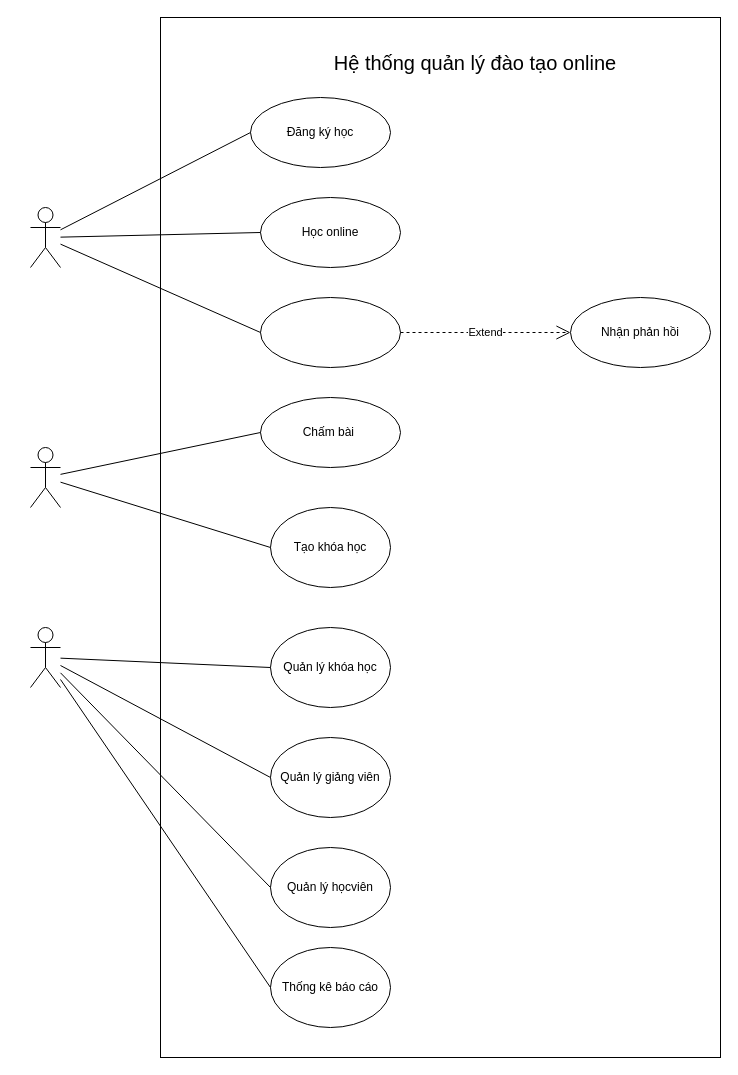
Some shapes in this 738 by 1075 pixel diagram are drawn without their labels. Here are the shapes that lost their labels. From the top down, the box of each, then its label:
(30, 206, 60, 268): Học viên
(260, 296, 400, 368): Xem điểm
(30, 446, 60, 508): Giảng viên
(30, 626, 60, 688): Quản trị
